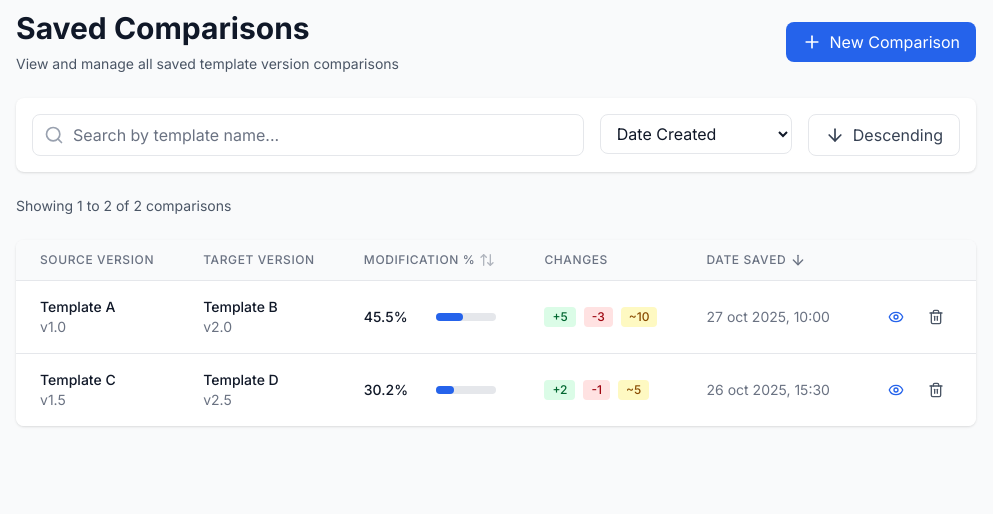
ComparisonsPage › Empty State › should show empty state with search term message
expect the text "Template A" is shown: met, box [40,298,115,315]
Type "NonExistent" into the field with placeholder "Search by template name...".
click(308, 135); type("NonExistent")  # box [32,114,584,156]
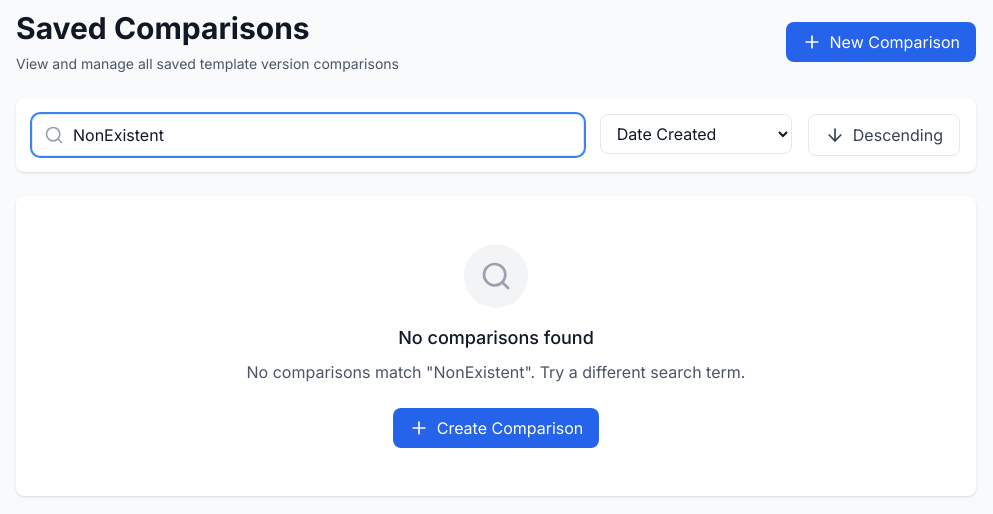
expect the text "No comparisons match \"NonExistent\"" is shown: met, box [247,362,746,382]
